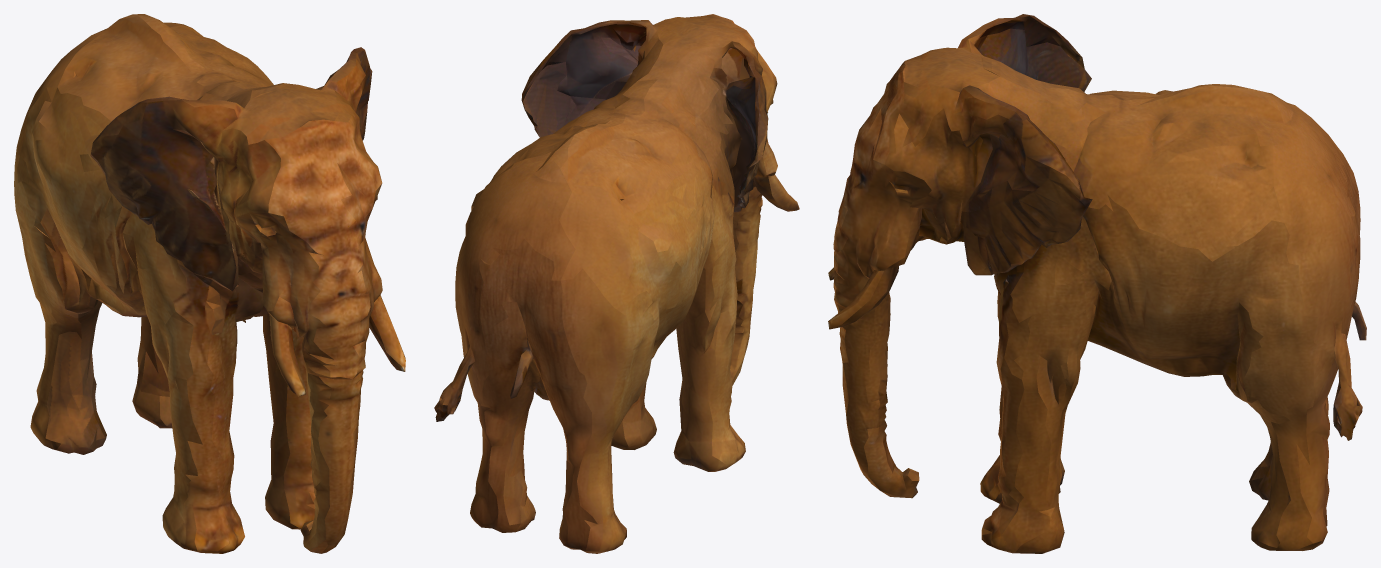
The picture shows the model from 3 angles, left to right: view 1: azimuth 30°, elevation 25°; view 2: azimuth 150°, elevation 25°; view 3: azimuth 270°, elevation 25°; orthographic projection. The views are drawn at different scales.
Visible parts, largest first — view 1: geometry_0; view 2: geometry_0; view 3: geometry_0.
Boxes of the visible parts, <box> form: geometry_0: <box>14,14,405,553</box>; geometry_0: <box>434,14,799,553</box>; geometry_0: <box>828,14,1366,553</box>.
Size of the model in its own units: 6 by 9.61 by 10.23.
1 material, 1 textured.
